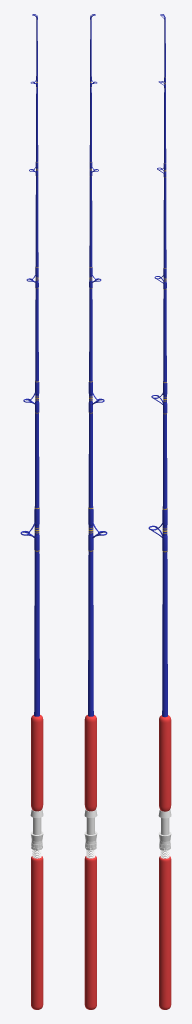
3 views of the same model, side by side, from view 1: azimuth 30°, elevation 25°; view 2: azimuth 150°, elevation 25°; view 3: azimuth 330°, elevation 25° (orthographic).
Visible parts, largest first — view 1: Circle003_1, Circle003_2, Circle003; view 2: Circle003_1, Circle003_2, Circle003; view 3: Circle003_1, Circle003_2, Circle003.
Part boxes in pixels (bbox=[...]): Circle003_1: bbox=[31, 715, 43, 1009]; Circle003_2: bbox=[20, 14, 39, 716]; Circle003: bbox=[30, 809, 43, 858]; Circle003_1: bbox=[84, 715, 96, 1009]; Circle003_2: bbox=[88, 14, 107, 716]; Circle003: bbox=[84, 809, 97, 858]; Circle003_1: bbox=[159, 715, 171, 1009]; Circle003_2: bbox=[148, 14, 167, 717]; Circle003: bbox=[158, 809, 171, 858].
Size of the model in its own units: 0.0904 by 4 by 0.0466.
